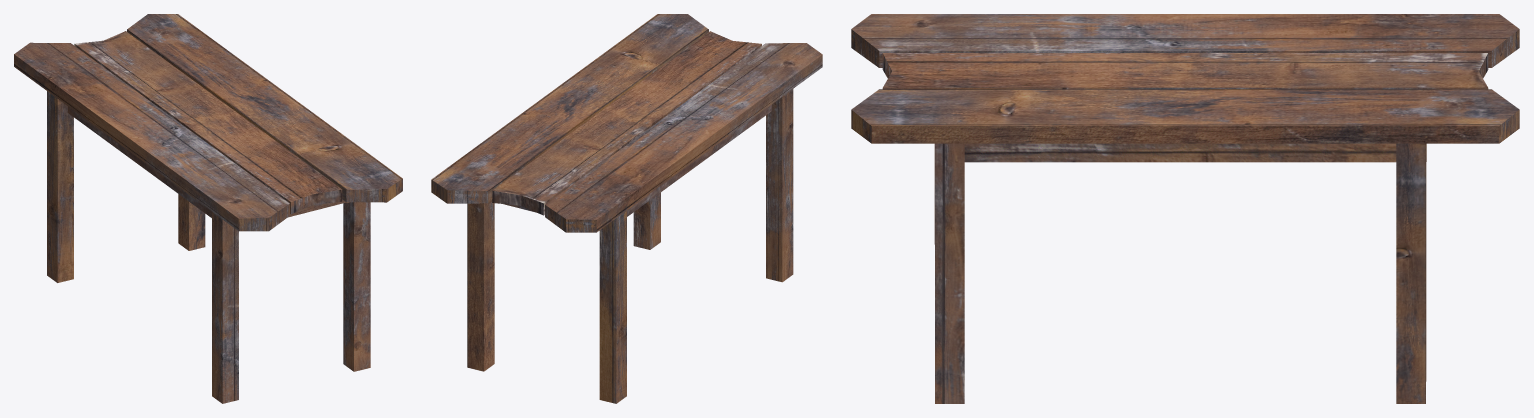
The model's file is Table.fbx.
3 renders of one model, left to right at view 1: azimuth 30°, elevation 25°; view 2: azimuth 150°, elevation 25°; view 3: azimuth 270°, elevation 25°, orthographic. The views are drawn at different scales.
Visible parts, largest first — view 1: Table; view 2: Table; view 3: Table.
Part boxes in pixels (x1,y1,x2,y2): Table: (14, 14, 402, 403); Table: (431, 14, 822, 403); Table: (851, 14, 1519, 403).
Size of the model in its own units: 424 by 503 by 1069.
